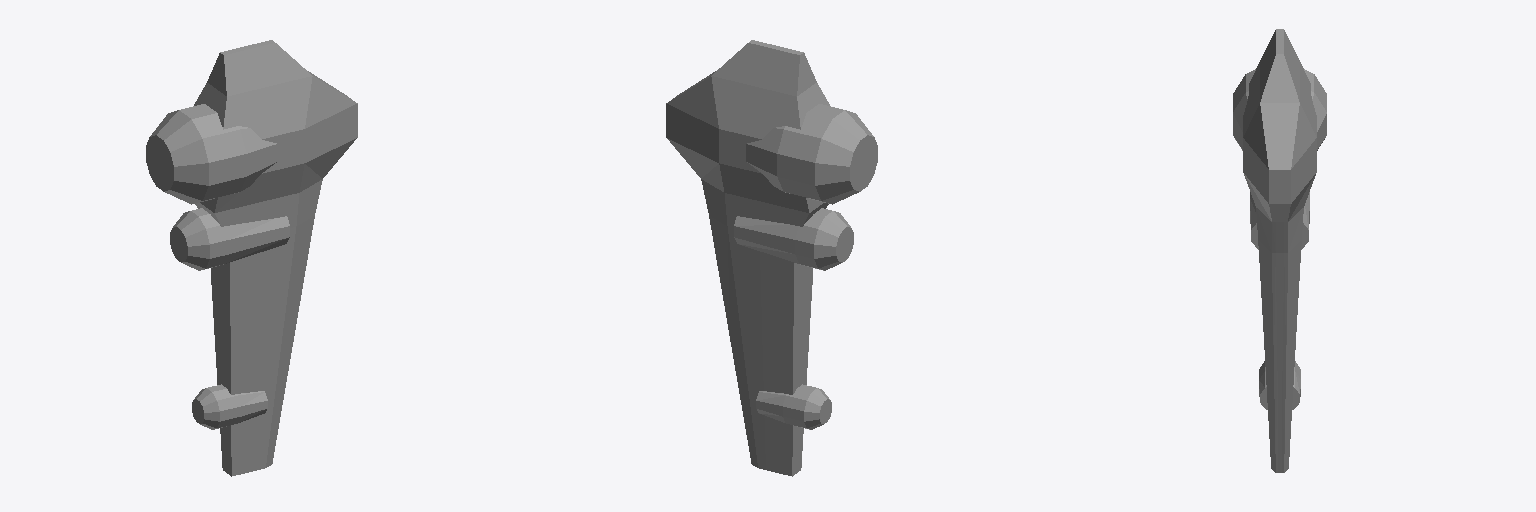
File: Outrider.obj
3 renders of one model, left to right at view 1: azimuth 30°, elevation 25°; view 2: azimuth 150°, elevation 25°; view 3: azimuth 270°, elevation 25°, orthographic.
Visible parts, largest first — view 1: Hull, Engine1, Engine2, Engine3; view 2: Hull, Engine1, Engine2, Engine3; view 3: Hull, Engine1, Engine3, Engine2.
Boxes of the visible parts, x1,y1,x2,y2 form: Hull: [194, 40, 357, 476]; Engine1: [146, 104, 277, 204]; Engine2: [170, 208, 289, 270]; Engine3: [192, 384, 267, 429]; Hull: [666, 40, 829, 476]; Engine1: [746, 104, 877, 204]; Engine2: [734, 208, 853, 270]; Engine3: [756, 384, 831, 429]; Hull: [1243, 29, 1316, 472]; Engine1: [1233, 69, 1326, 150]; Engine3: [1259, 361, 1300, 409]; Engine2: [1250, 192, 1309, 249].
Bounding box in the file's own units: 2.34 × 4.9 × 0.9945.